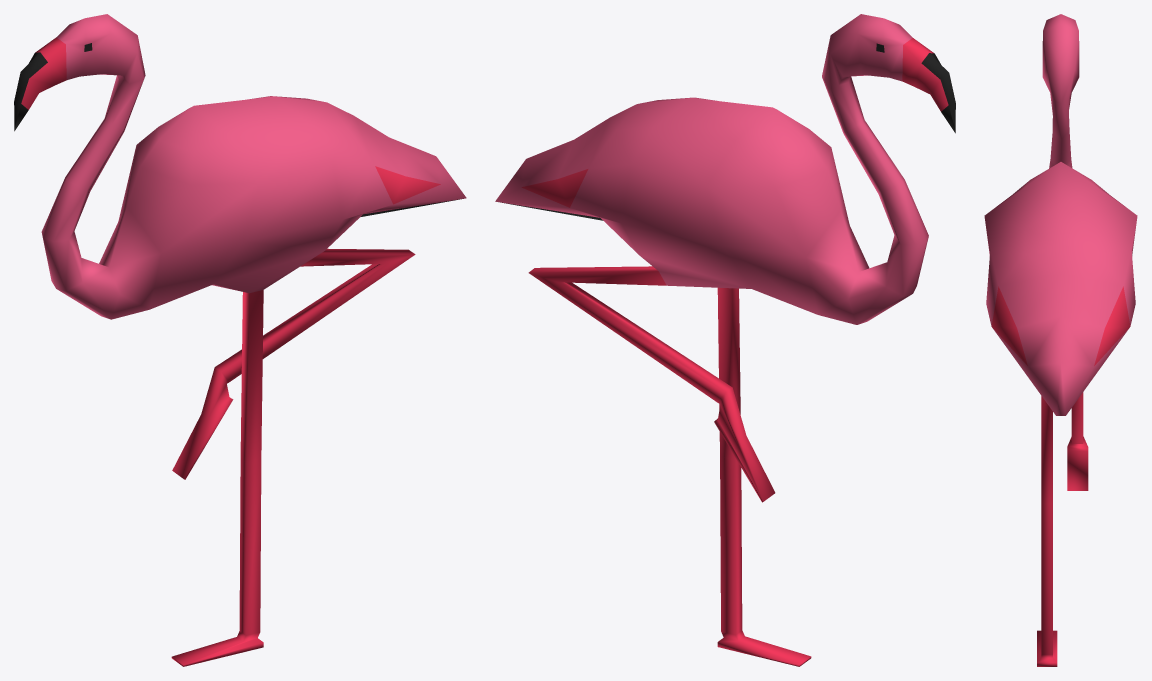
The model's file is flamingo.obj.
3 views of the same model, side by side, from view 1: azimuth 30°, elevation 25°; view 2: azimuth 150°, elevation 25°; view 3: azimuth 270°, elevation 25° (orthographic). The views are drawn at different scales.
Parts seen in each view (by area): view 1: flamingo_flamingo_01___Default, flamingo_flamingo_01___Pink, flamingo_flamingo_03___Default; view 2: flamingo_flamingo_01___Default, flamingo_flamingo_01___Pink, flamingo_flamingo_03___Default; view 3: flamingo_flamingo_01___Default, flamingo_flamingo_01___Pink.
Boxes of the visible parts, <box> form: flamingo_flamingo_01___Default: <box>41,14,466,319</box>; flamingo_flamingo_01___Pink: <box>21,37,440,666</box>; flamingo_flamingo_03___Default: <box>14,43,463,216</box>; flamingo_flamingo_01___Default: <box>495,14,928,324</box>; flamingo_flamingo_01___Pink: <box>521,38,948,666</box>; flamingo_flamingo_03___Default: <box>500,43,955,220</box>; flamingo_flamingo_01___Default: <box>984,14,1137,415</box>; flamingo_flamingo_01___Pink: <box>991,286,1130,666</box>.
Size of the model in its own units: 0.8527 by 1.19 by 0.2848.
